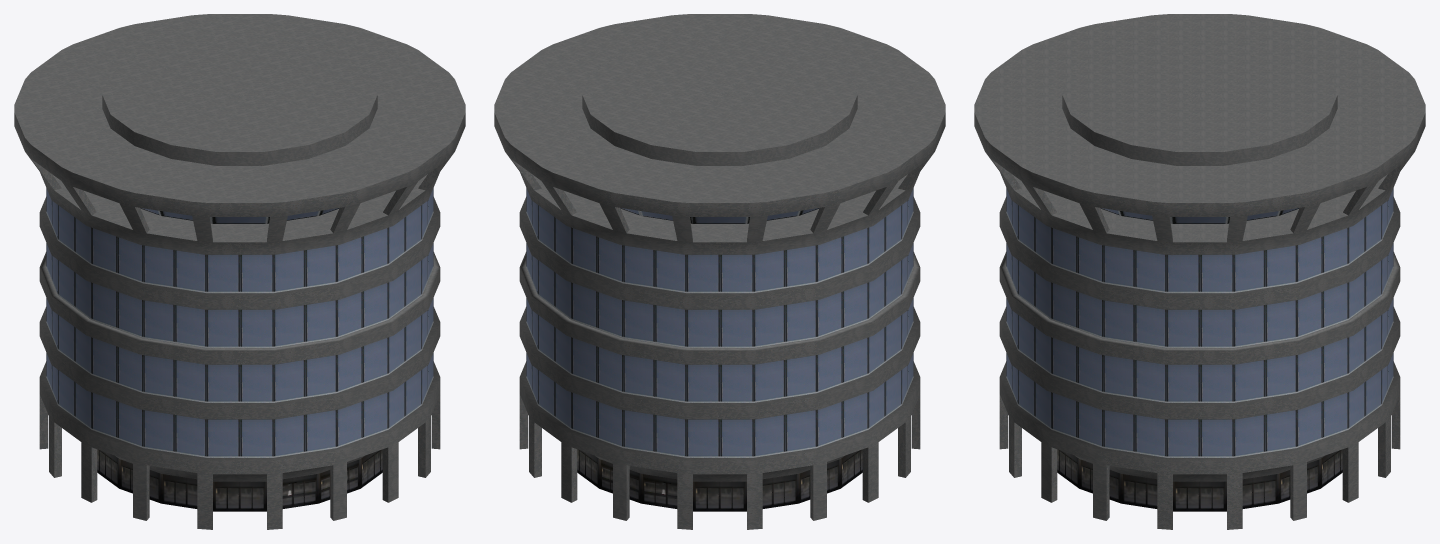
Rendered from silicon04_sfs.obj.
The picture shows the model from 3 angles, left to right: view 1: azimuth 30°, elevation 25°; view 2: azimuth 150°, elevation 25°; view 3: azimuth 270°, elevation 25°; orthographic projection.
Visible parts, largest first — view 1: Silicon04_SFS; view 2: Silicon04_SFS; view 3: Silicon04_SFS.
Boxes of the visible parts, x1=… form: Silicon04_SFS: x1=14, y1=14, x2=465, y2=529; Silicon04_SFS: x1=494, y1=14, x2=945, y2=529; Silicon04_SFS: x1=974, y1=14, x2=1425, y2=529.
Bounding box in the file's own units: 40.06 × 34.7 × 40.4.
Materials: 4 (4 with a texture image).
